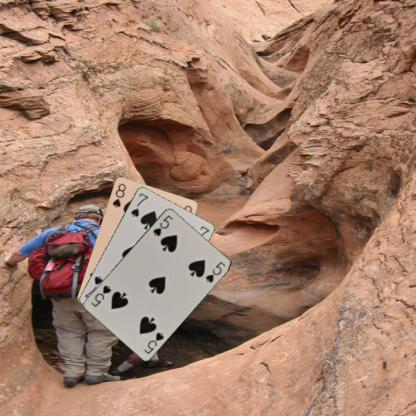5s: (141, 330, 165, 356), (150, 212, 174, 237)
7s: (128, 190, 150, 218)
8s: (110, 181, 127, 208)
